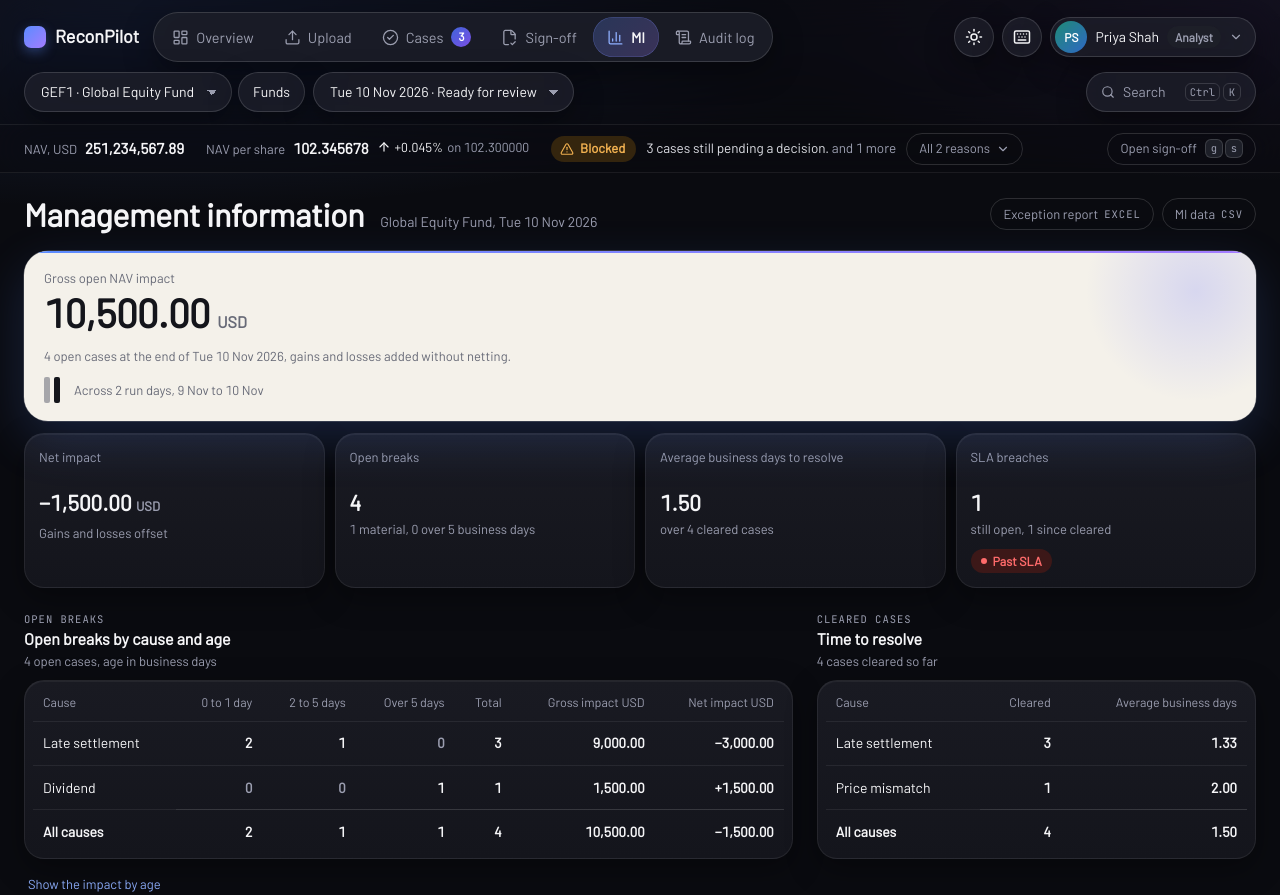
MiScreen › exports › downloads the exception report and the MI data under the server's file names
Click the button "Exception report Excel": (1072, 214) [990,198,1154,230]
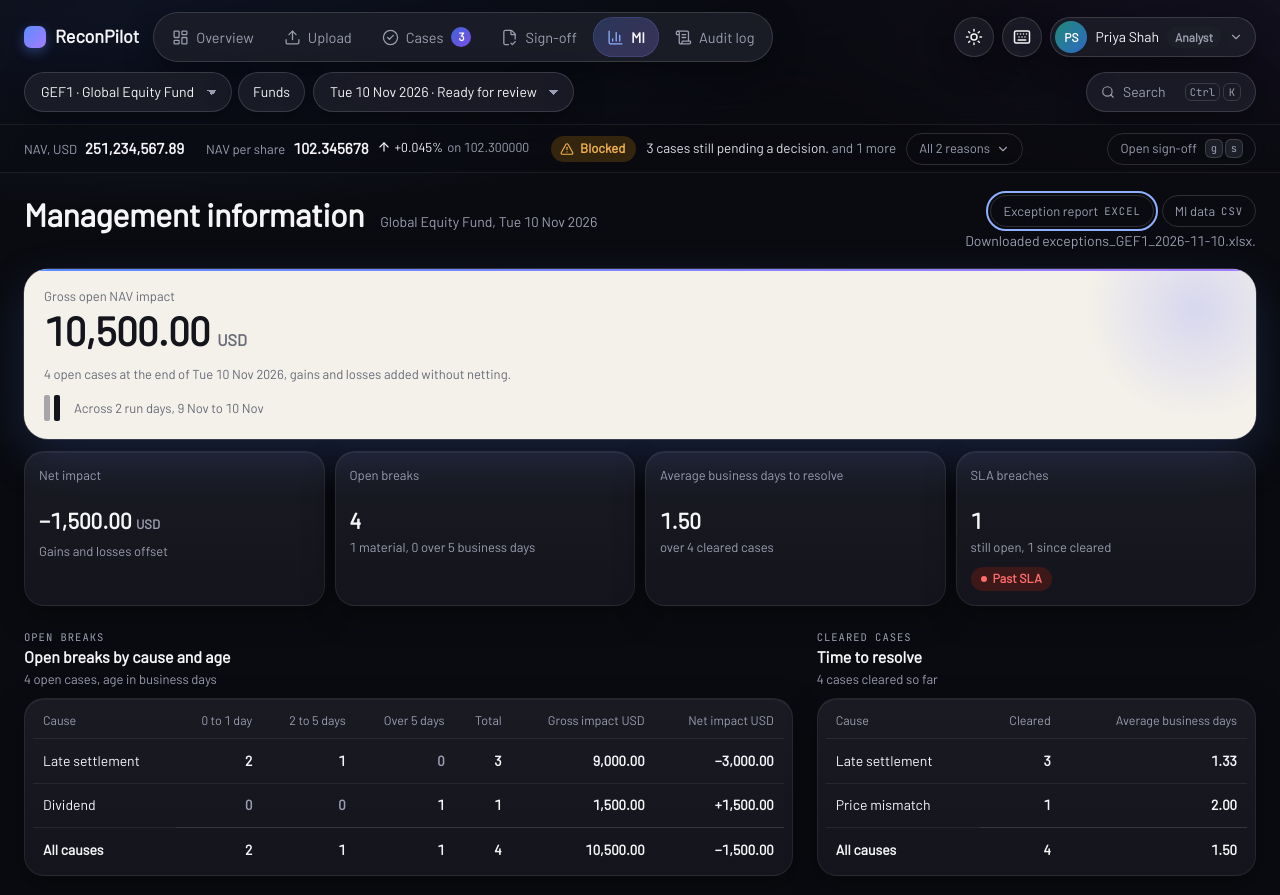
Expected: the text "Downloaded exceptions_GEF1_2026-11-10.xlsx." is shown, [965,231,1256,251]
Click the button "MI data CSV": (1209, 211) [1162,195,1256,227]
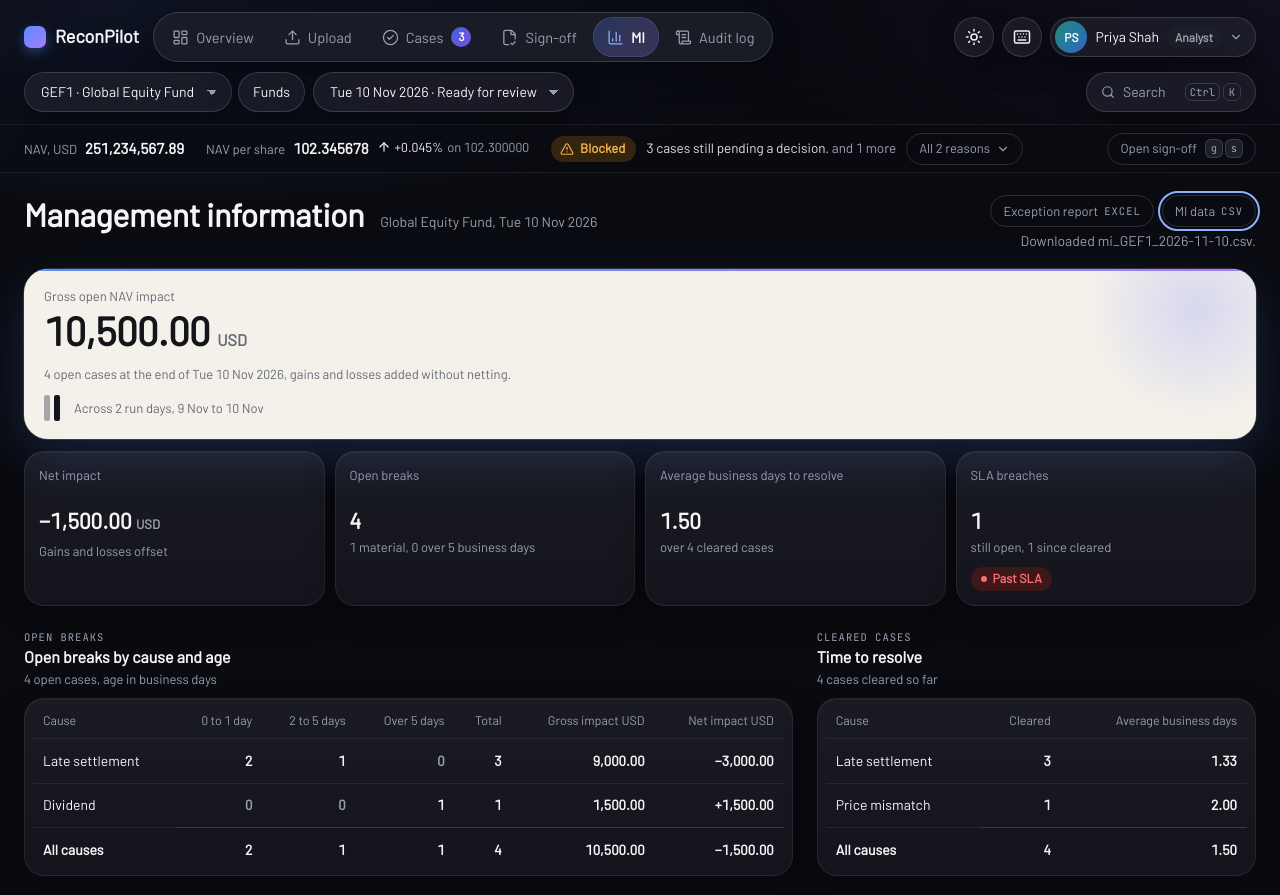
Expected: the text "Downloaded mi_GEF1_2026-11-10.csv." is shown, [1021,231,1256,251]
